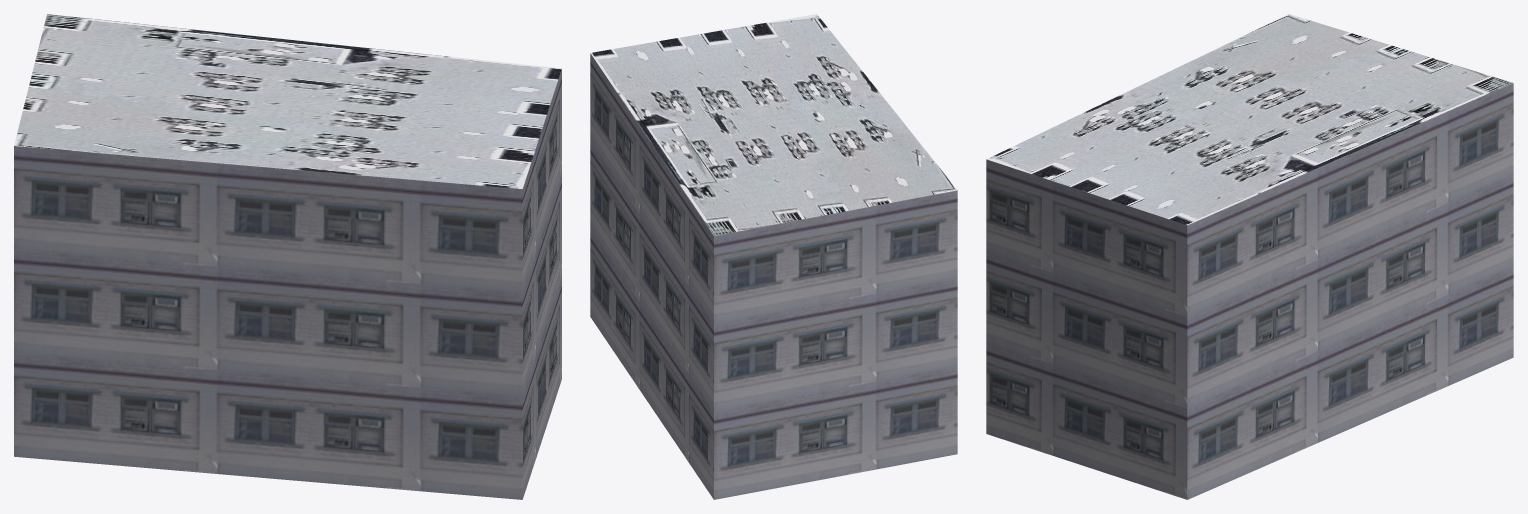
File: ResTex__1032.fbx
3 renders of one model, left to right at view 1: azimuth 30°, elevation 25°; view 2: azimuth 150°, elevation 25°; view 3: azimuth 270°, elevation 25°, orthographic. The views are drawn at different scales.
Parts seen in each view (by area): view 1: CityEngineMaterial_1_m, CityEngineMaterial_4_m; view 2: CityEngineMaterial_1_m, CityEngineMaterial_4_m; view 3: CityEngineMaterial_1_m, CityEngineMaterial_4_m.
Part boxes in pixels (x1=…): CityEngineMaterial_1_m: x1=14, y1=69, x2=561, y2=499; CityEngineMaterial_4_m: x1=14, y1=14, x2=561, y2=188; CityEngineMaterial_1_m: x1=590, y1=53, x2=957, y2=499; CityEngineMaterial_4_m: x1=590, y1=14, x2=956, y2=235; CityEngineMaterial_1_m: x1=986, y1=83, x2=1513, y2=499; CityEngineMaterial_4_m: x1=986, y1=14, x2=1512, y2=225.
Size of the model in its own units: 14.86 by 9 by 15.66.
2 materials, 2 textured.
